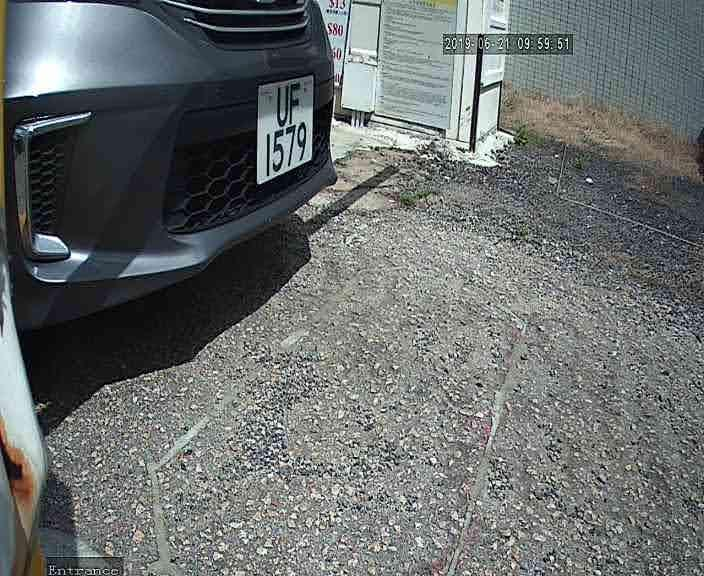bottom_left_lp: (251, 176, 266, 186)
bottom_right_lp: (307, 154, 316, 163)
top_left_lp: (253, 79, 264, 94)
top_right_lp: (306, 68, 316, 84)
